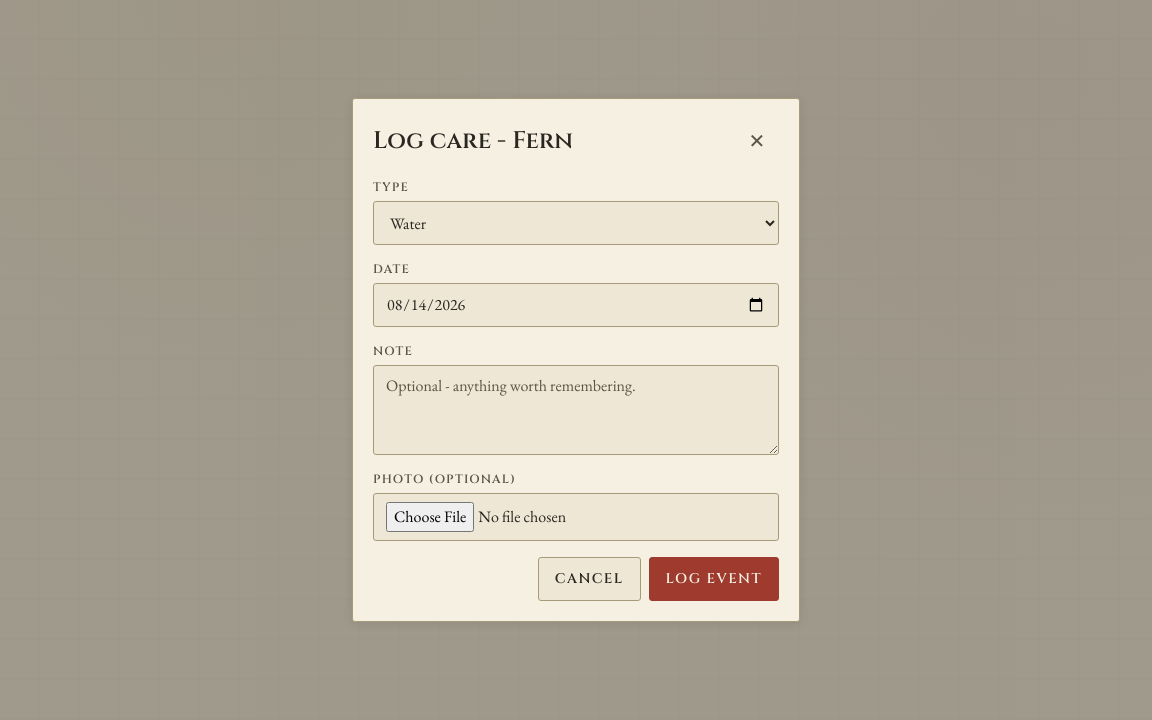
Test case: LogCareModal form › blocks a future date on submit without firing a POST (F-11)
Type "2999-01-01" into the date field labelled "Date".
click(576, 305); type("2999-01-01")  # box [373,283,779,327]
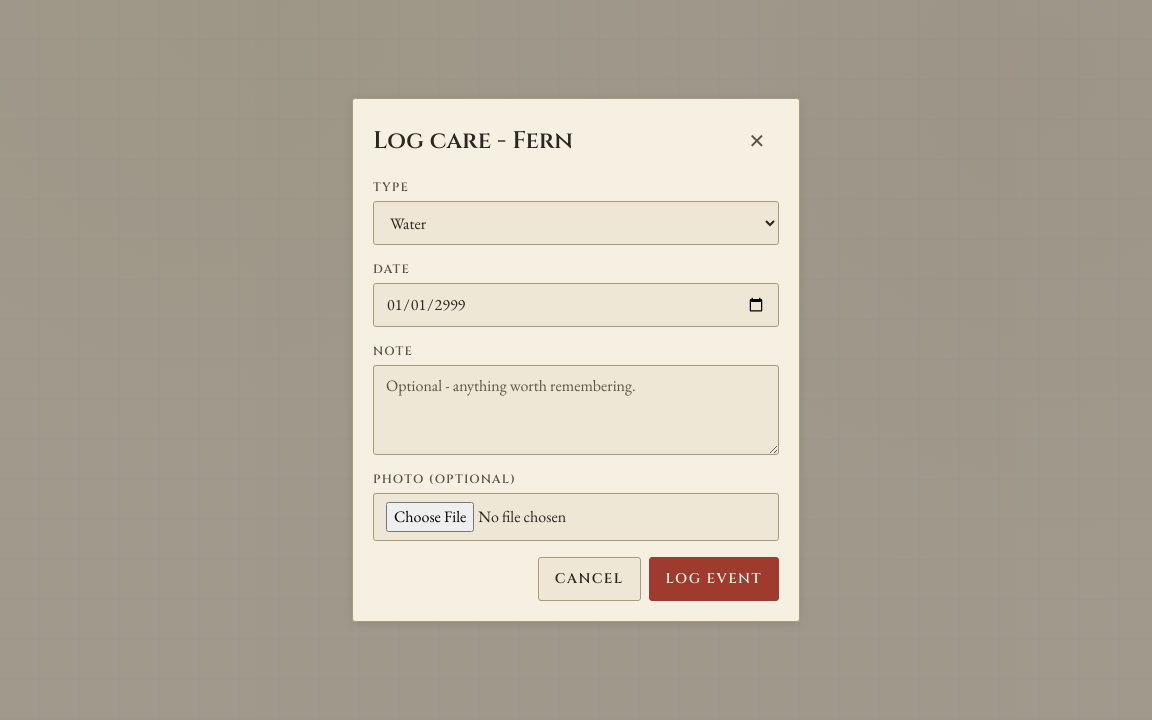
Click the button "Log event".
click(714, 579)  # box [648,557,779,601]
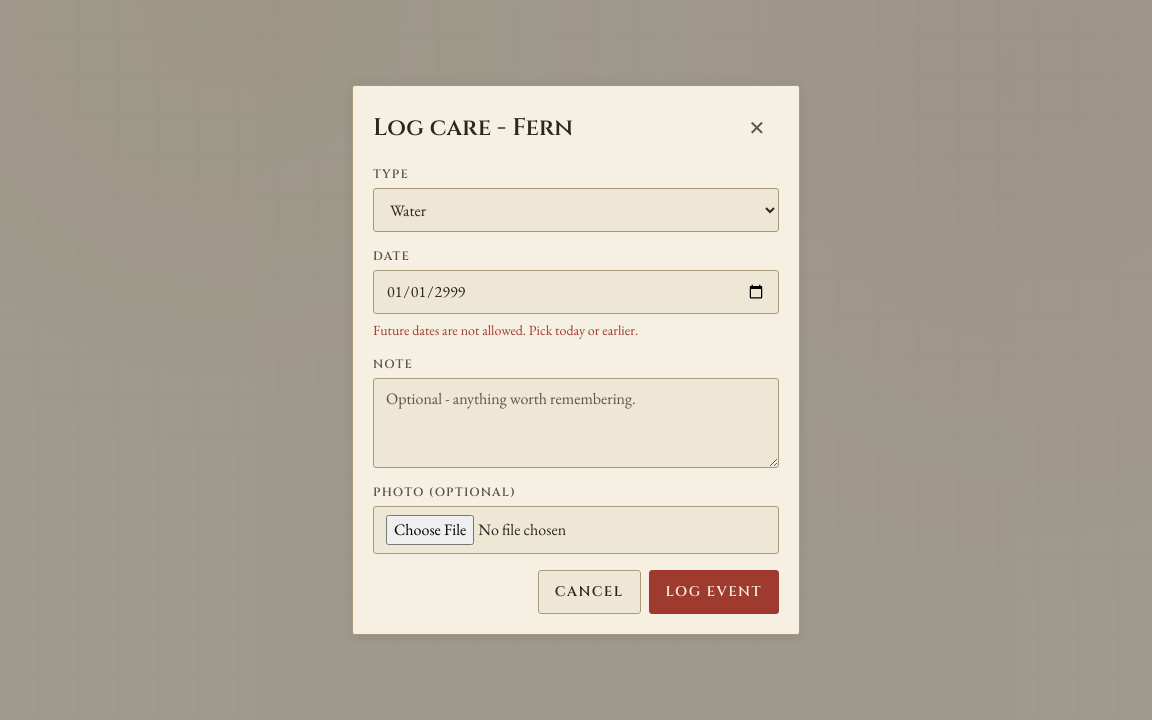
Expected: the message shows "Future", [373,321,638,339]
